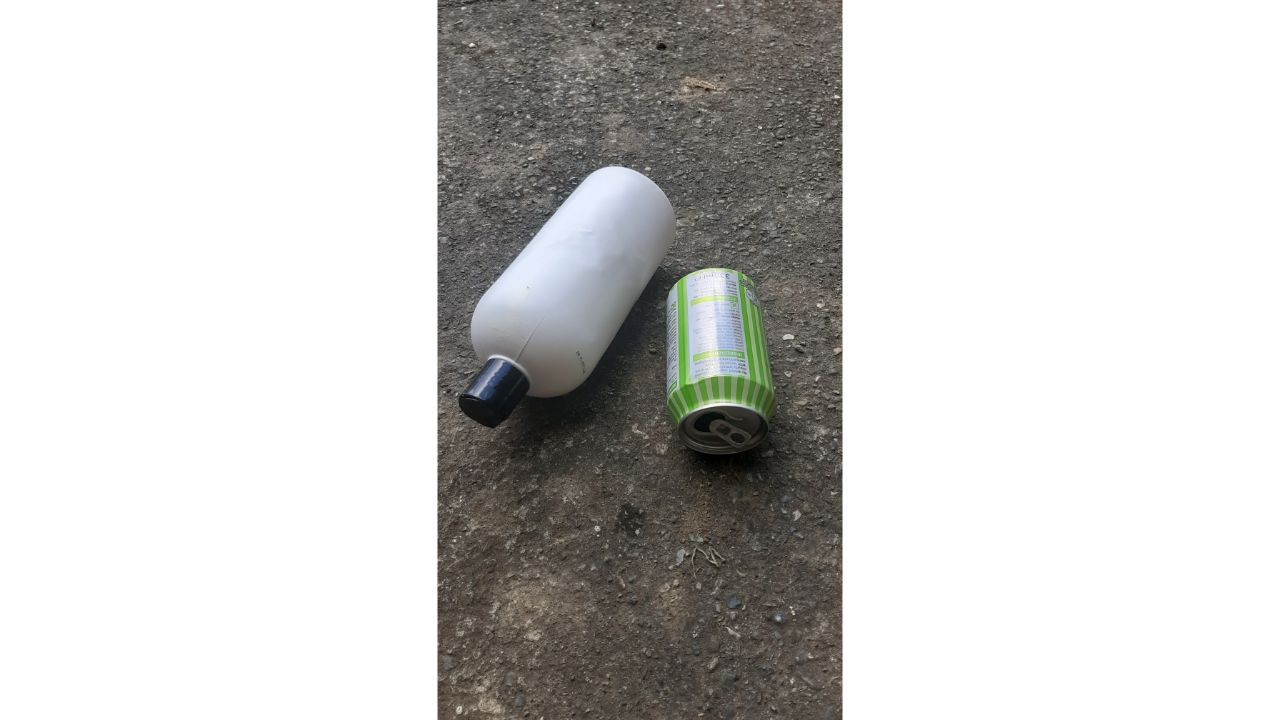Can: (657, 252, 783, 469)
